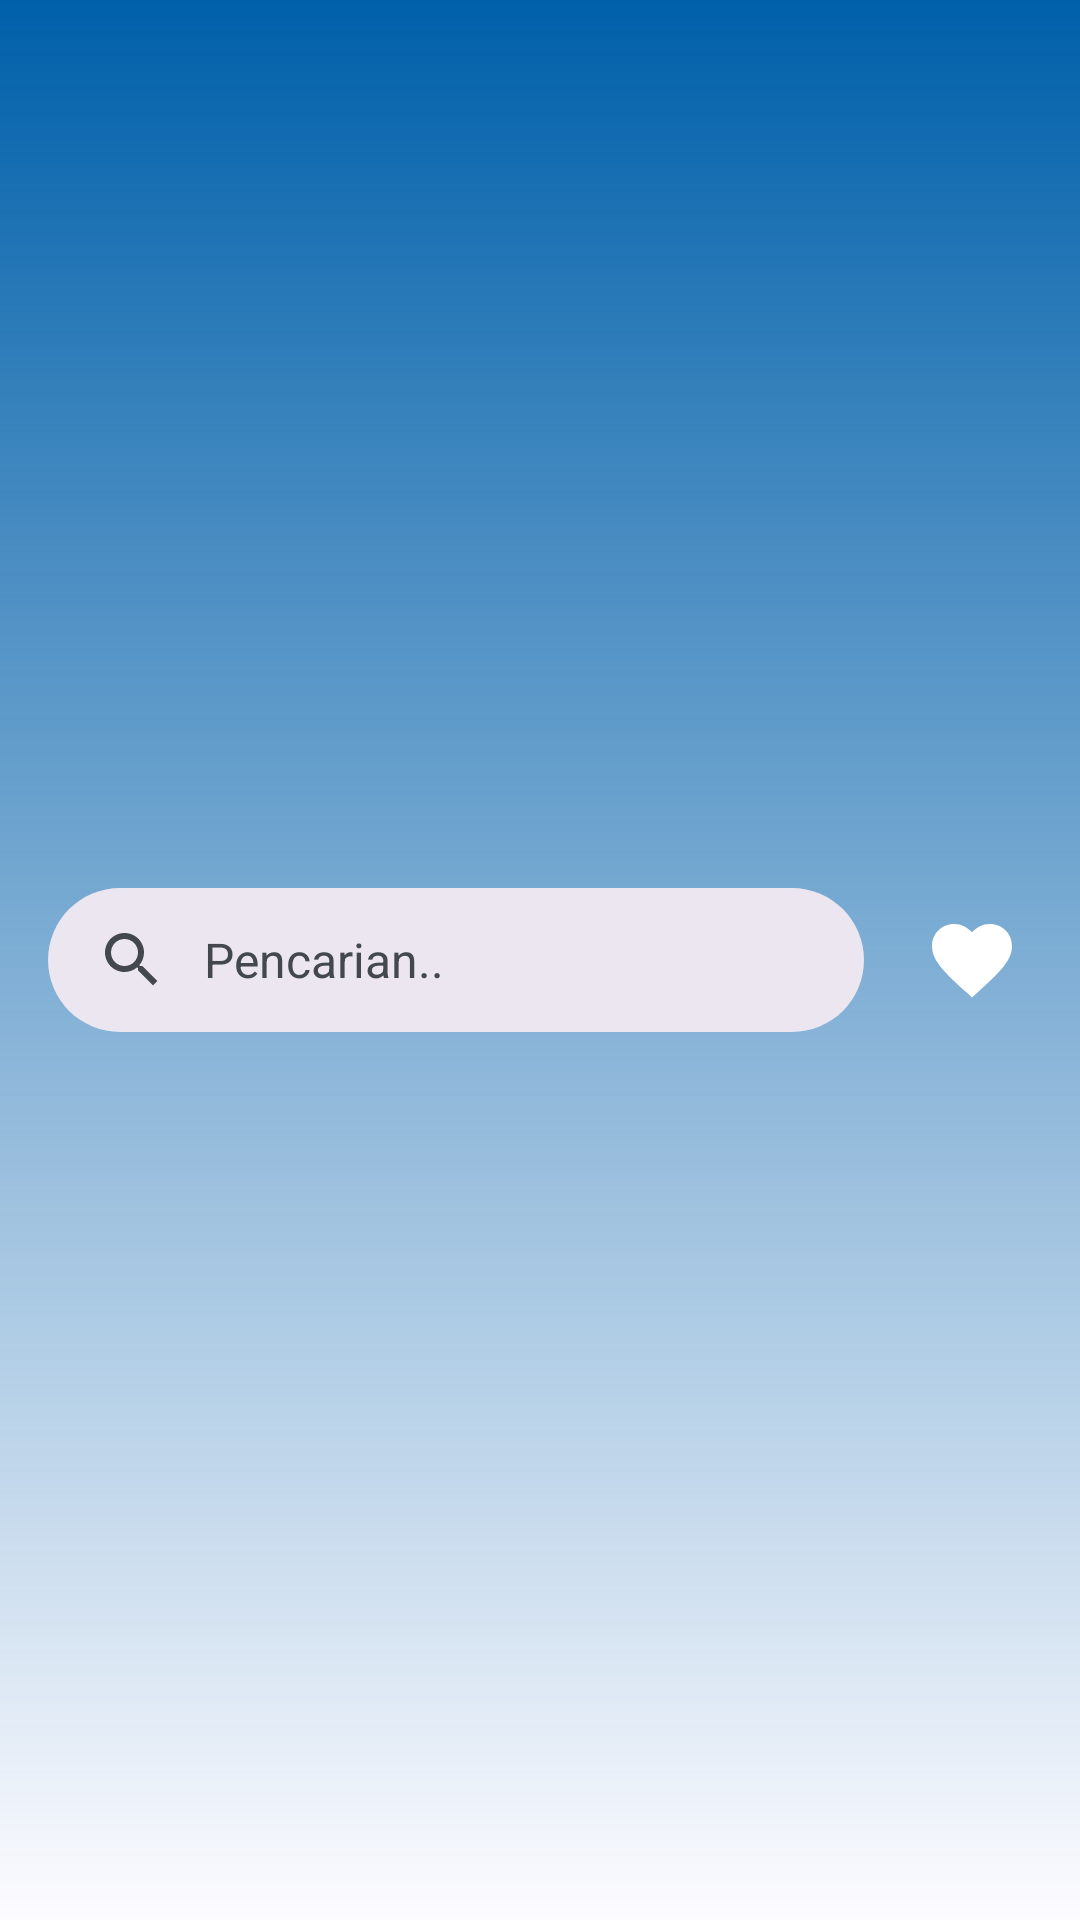

Screen size 1080x1920. Icon name, then its center in pixels as (x,y):
favorite page: (972,961)
